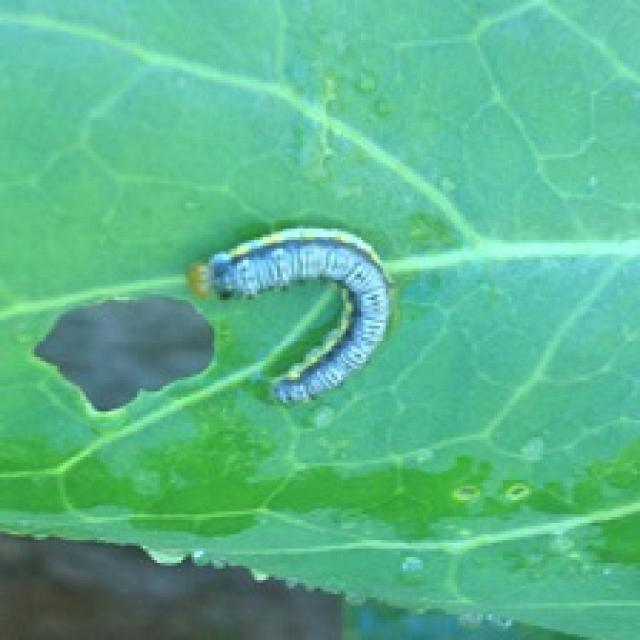Cabbage-worm: (182, 223, 400, 406)
